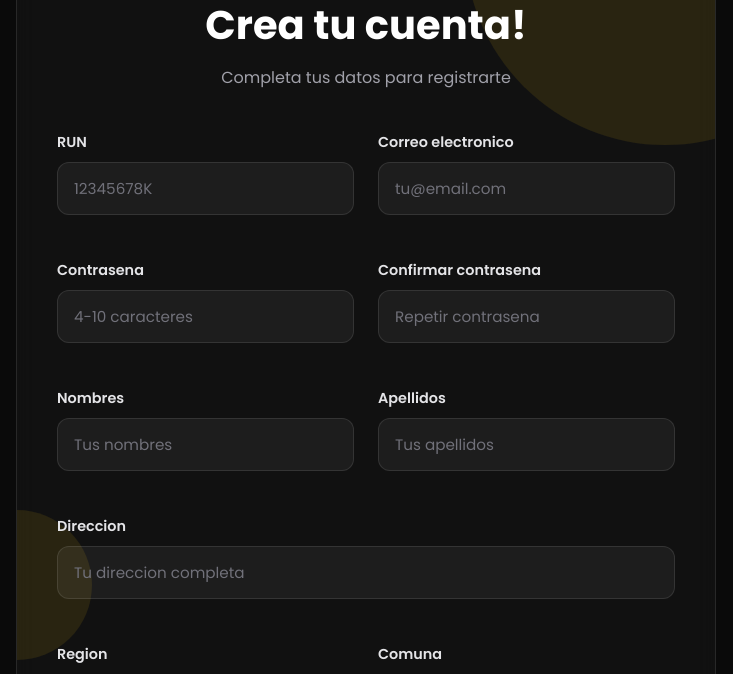
Test: Registro › Validaciones de formulario › debe mostrar error cuando la contraseña es menor a 4 caracteres
This screenshot has width=733, height=674.
In the field with placeholder "12345678K": (206, 188) x1=57 y1=162 x2=354 y2=215, type "12345678-9"
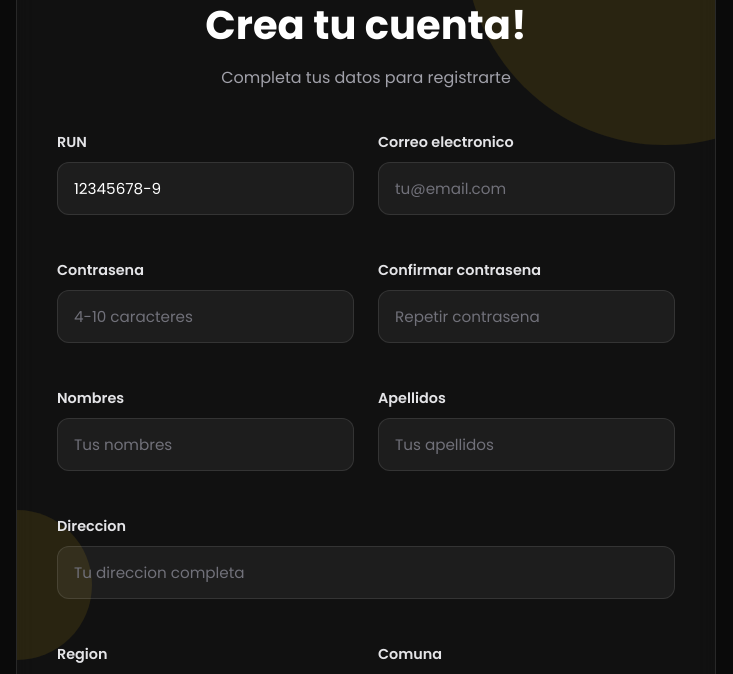
In the field with placeholder "tu@email.com": (526, 188) x1=378 y1=162 x2=675 y2=215, type "test@example.com"
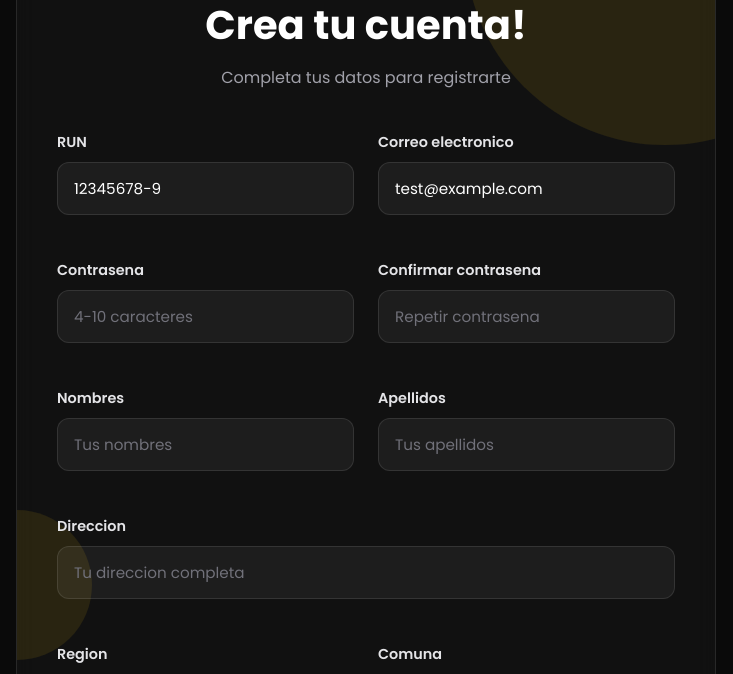
In the password field with placeholder "4-10 caracteres": (206, 316) x1=57 y1=290 x2=354 y2=343, type "123"
(page scrolled)
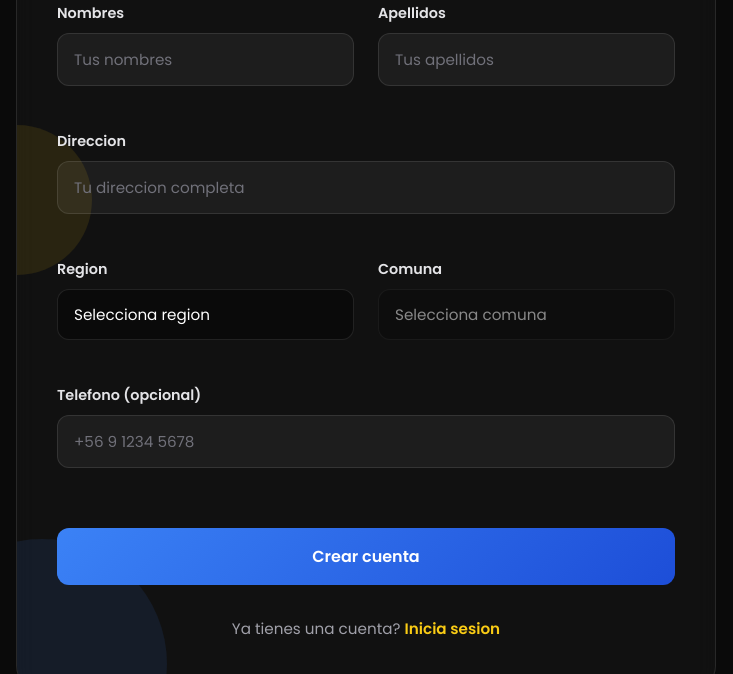
Click the button "Crear cuenta": click(366, 556) x1=57 y1=528 x2=675 y2=585
(page scrolled)
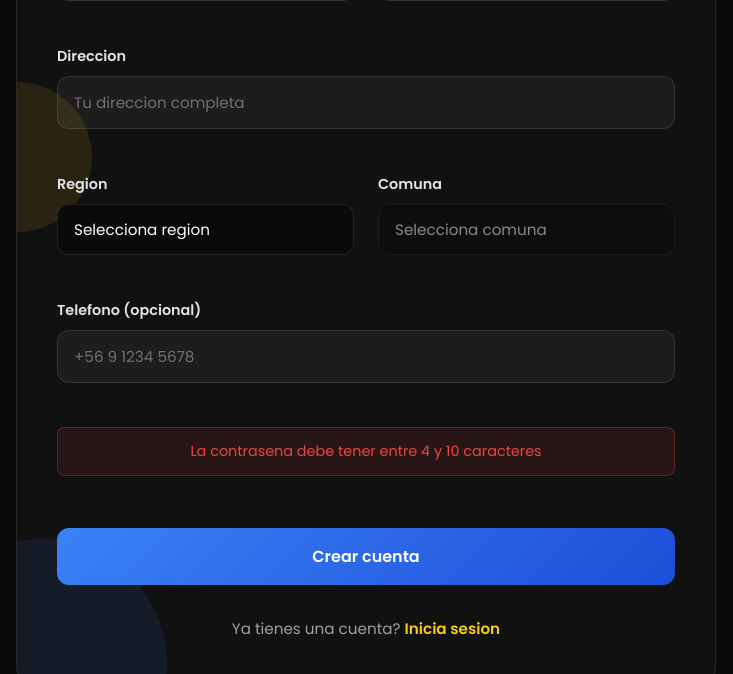
Expected: the text "La contrasena debe tener entre 4 y 10 caracteres" is shown, x1=57 y1=427 x2=675 y2=476
